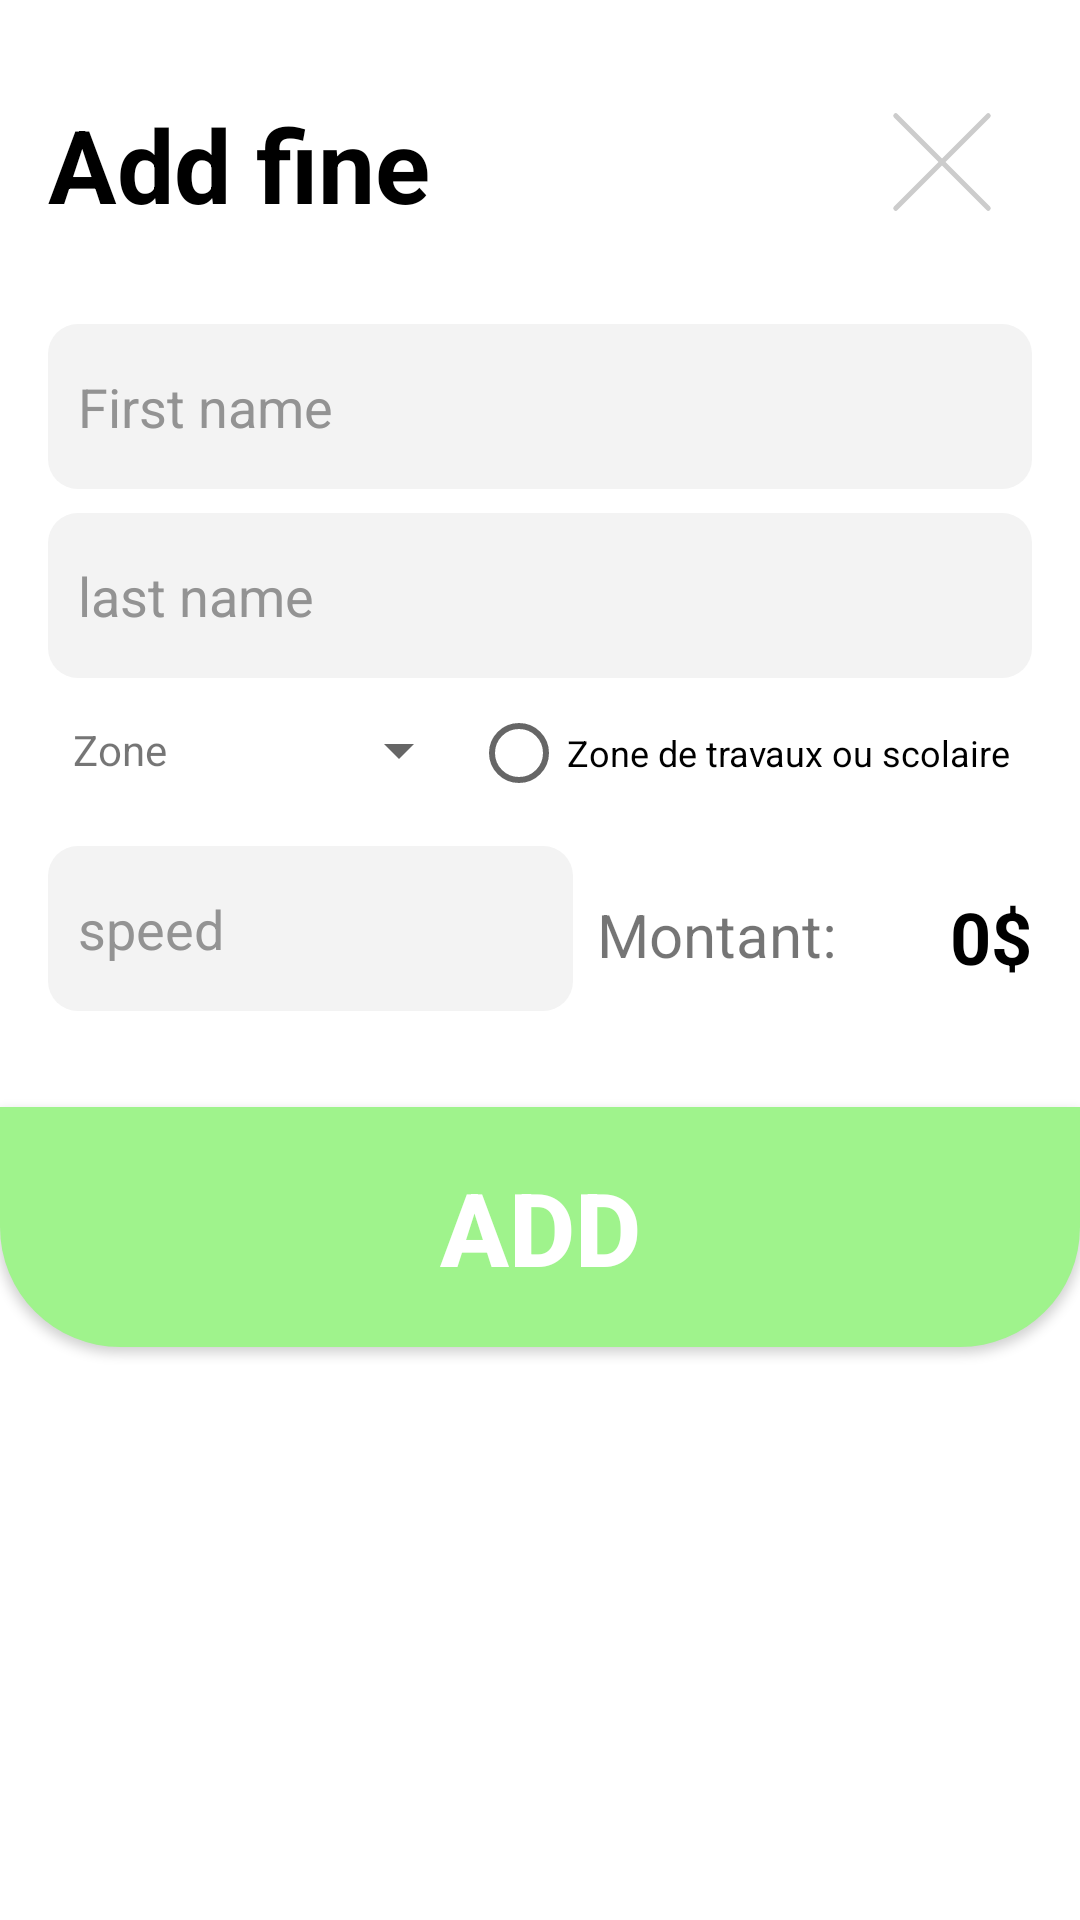

Icons on this 1080 x 1920 Android screen, each with its box as (x1, y1, x2, y2):
close: (893, 113, 991, 211)
